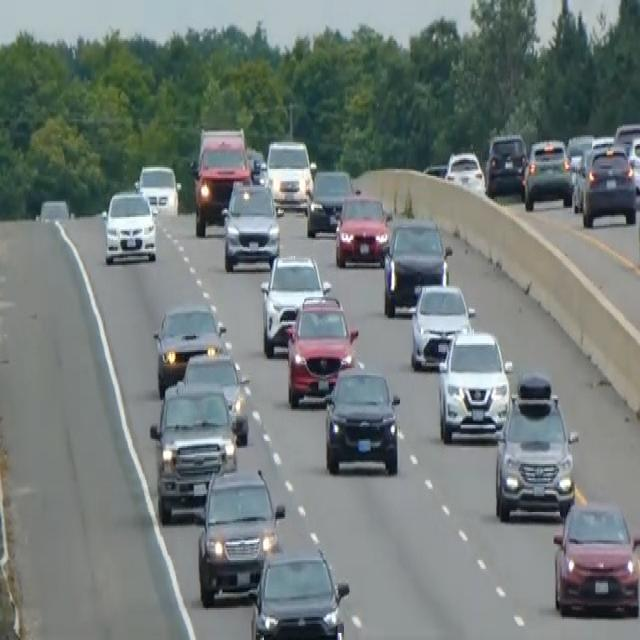car: (493, 370, 578, 521), (149, 378, 237, 522), (196, 466, 285, 604), (552, 498, 639, 618), (250, 546, 350, 638), (436, 325, 512, 443), (285, 292, 360, 407), (324, 364, 401, 476), (259, 250, 331, 356), (152, 300, 227, 394), (382, 215, 451, 317), (181, 345, 250, 444), (409, 279, 475, 370), (220, 178, 280, 272), (579, 142, 637, 228), (334, 188, 391, 268), (101, 187, 157, 265), (265, 137, 315, 213), (522, 137, 573, 210), (305, 167, 354, 237), (484, 132, 527, 198), (136, 162, 180, 215), (443, 148, 485, 194), (613, 121, 639, 194), (37, 197, 69, 224)
jeep: (188, 122, 253, 236)
